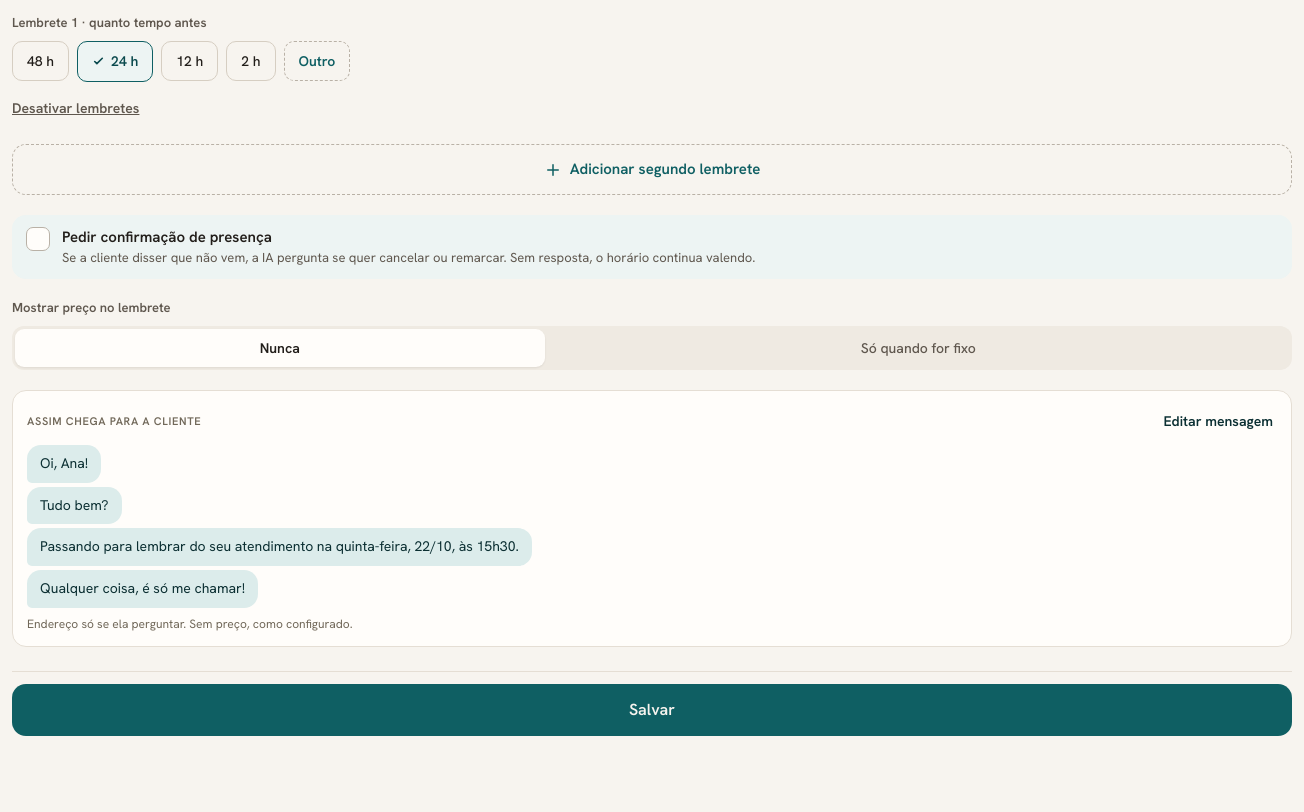
Test: salvar envia o payload exato a updateReminders, incluindo confirmação e política de preço
This screenshot has width=1304, height=812.
Check: the text "Lembrete 1 · quanto tempo antes" is shown, box [12,14,206,31]
Click the checkbox at (652, 247), box [12,215,1292,279]
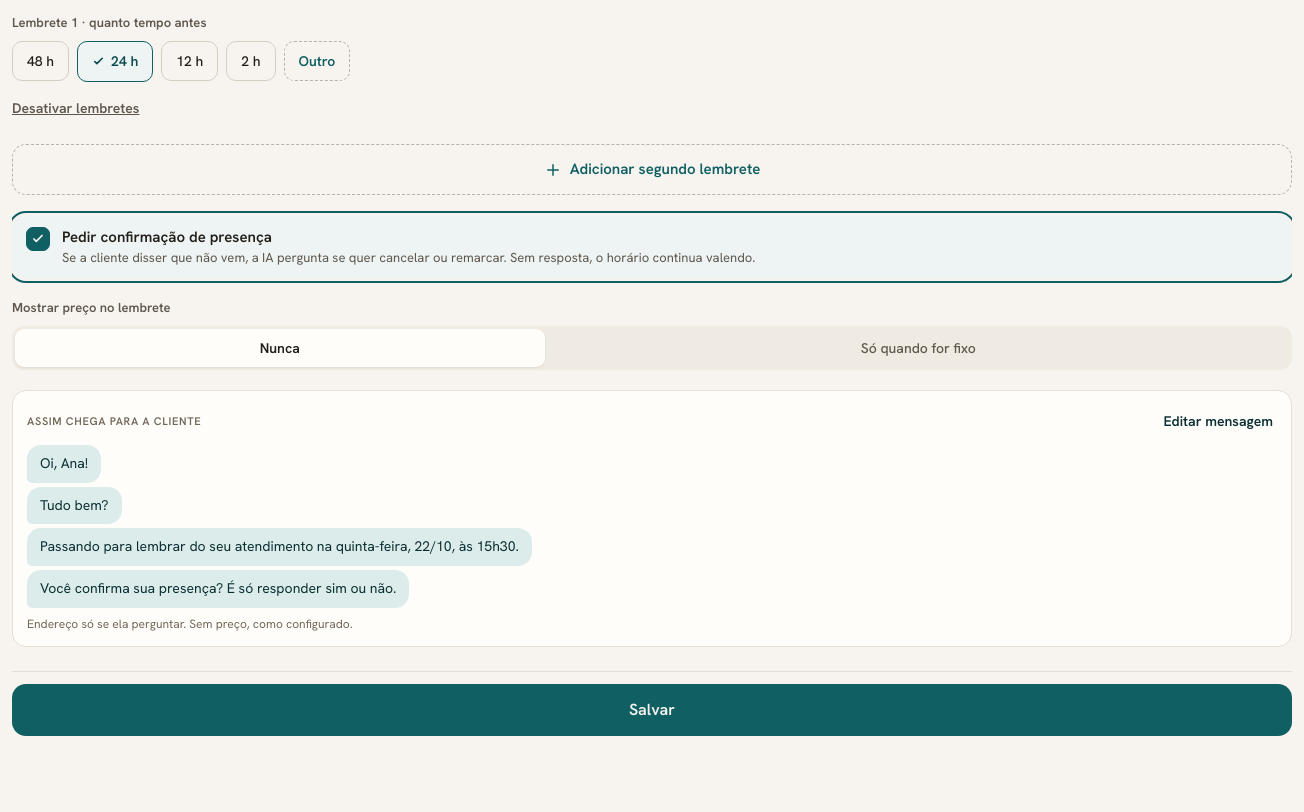
Click the button "Só quando for fixo" at (918, 348), box [548,329,1289,367]
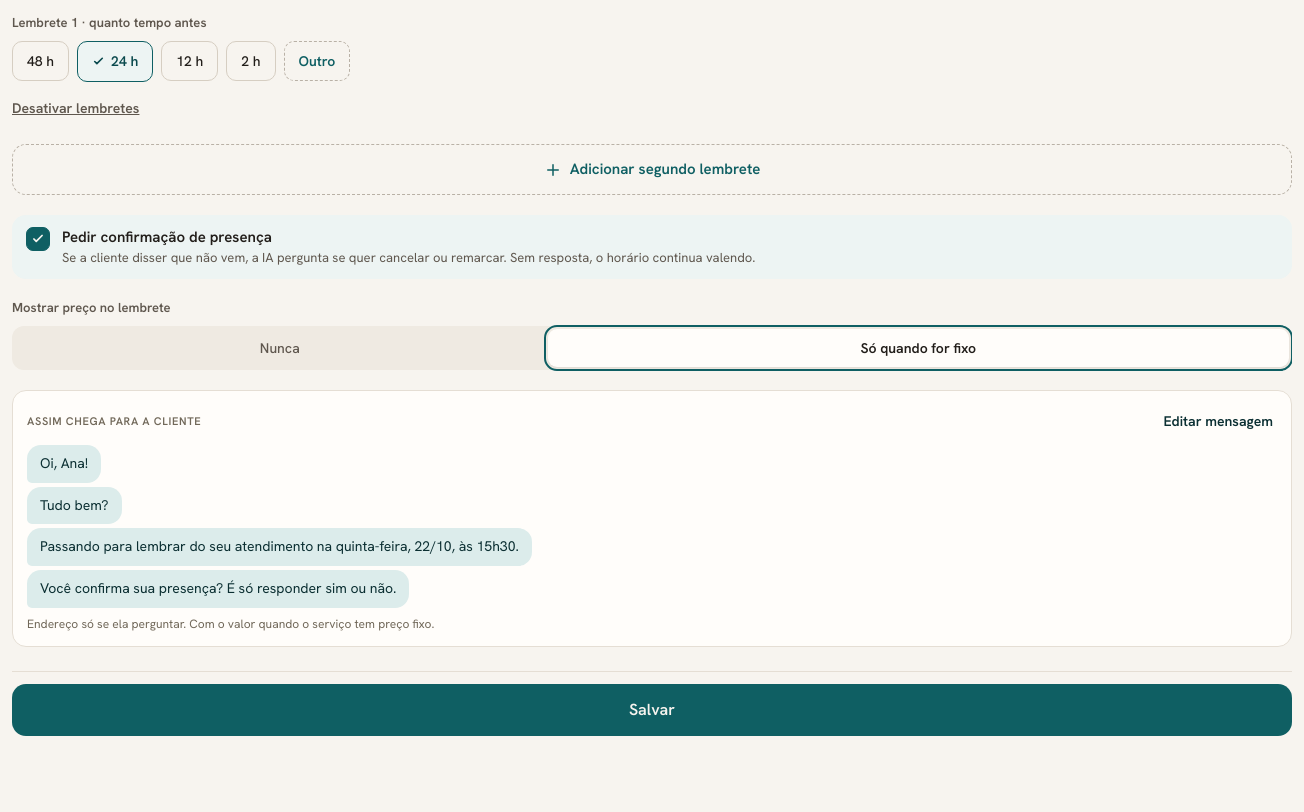
Click the button "Salvar" at (652, 710), box [12,684,1292,736]
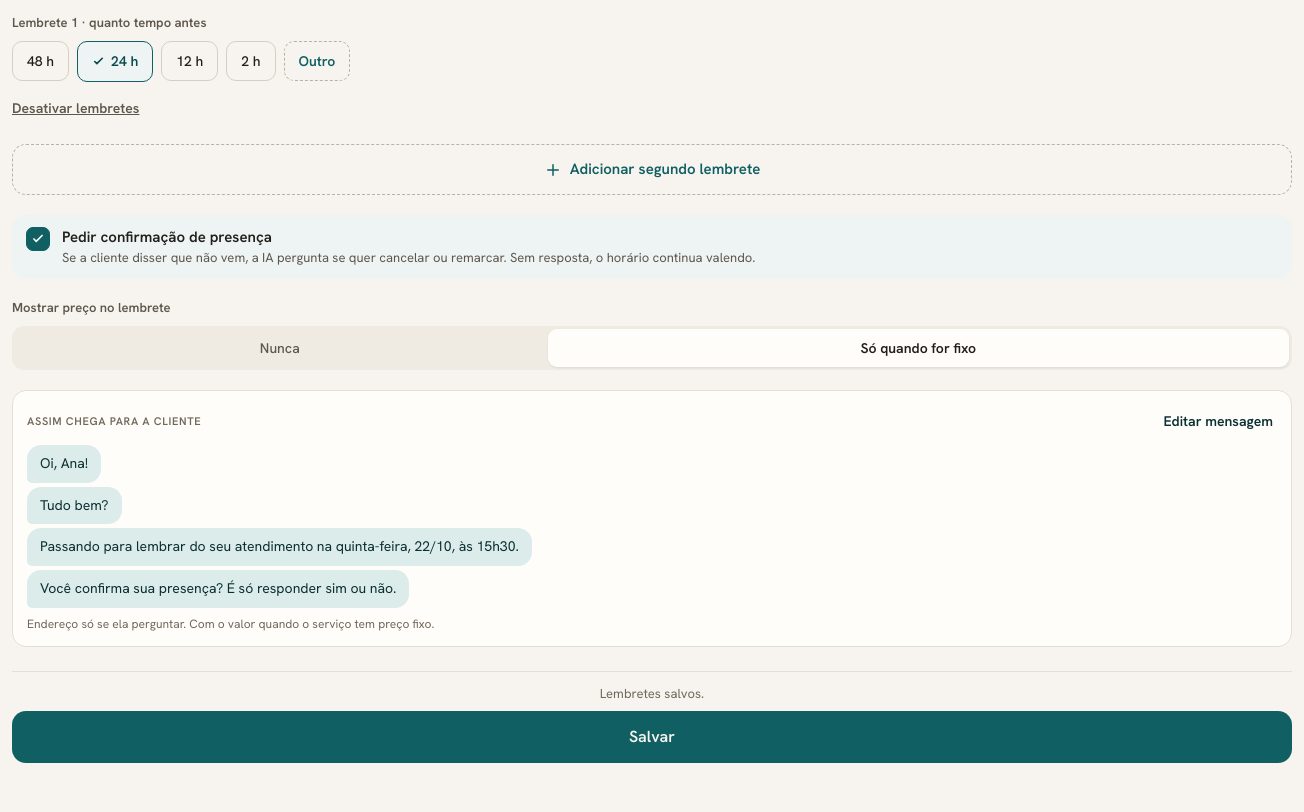
Check: the text "Lembretes salvos." is shown, box [600,685,704,702]
